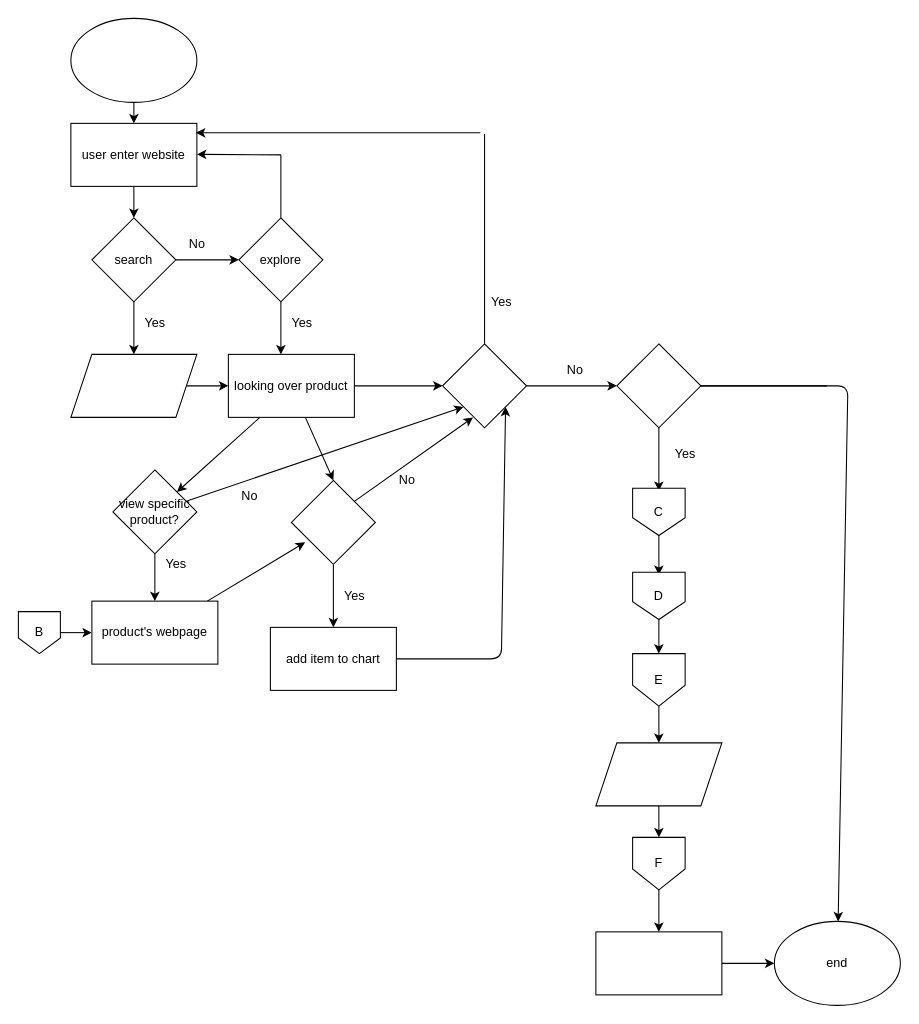
Image size: 919x1024. Some labels were removed from this diagram. Each missing label, with the centre of its shape:
"add item to chart?" goes at (x=332, y=521).
"checkout?" goes at (x=658, y=385).
"continue shopping?" goes at (x=484, y=385).
"read payment info" goes at (x=658, y=774).
"read product" goes at (x=133, y=385).
"receive email" goes at (x=658, y=963).
"start" goes at (x=133, y=59).
